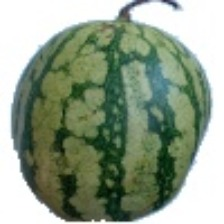watermelon: (37, 15, 193, 209)
